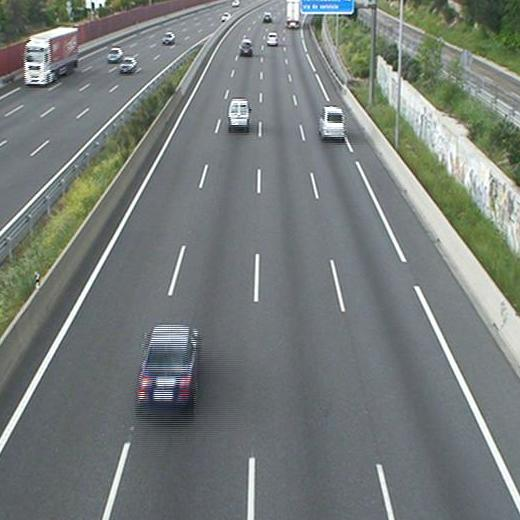car: (136, 325, 202, 418), (319, 106, 346, 141), (228, 99, 252, 134), (238, 39, 253, 56), (267, 31, 278, 46)
